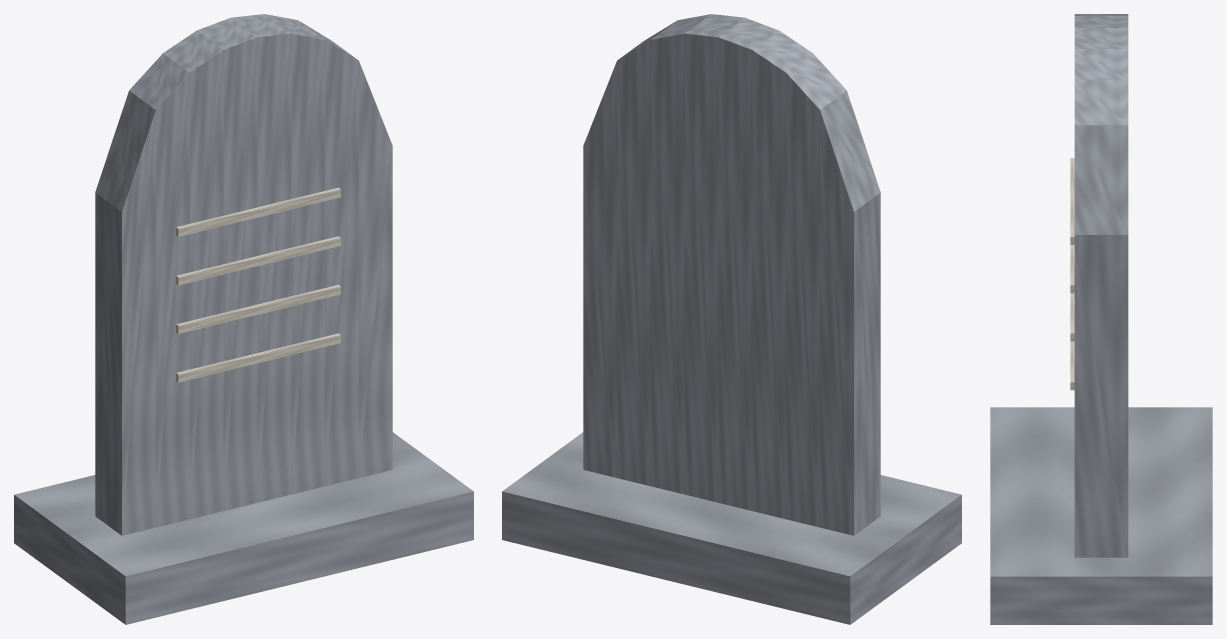
3 views of the same model, side by side, from view 1: azimuth 30°, elevation 25°; view 2: azimuth 150°, elevation 25°; view 3: azimuth 270°, elevation 25° (orthographic).
Parts seen in each view (by area): view 1: headstone-tablet; view 2: headstone-tablet; view 3: headstone-tablet.
Boxes of the visible parts, x1,y1,x2,y2 form: headstone-tablet: (14,14,473,624); headstone-tablet: (502,14,961,624); headstone-tablet: (990,14,1212,624).
Size of the model in its own units: 0.9001 by 1.27 by 0.5.
2 materials, 2 textured.
